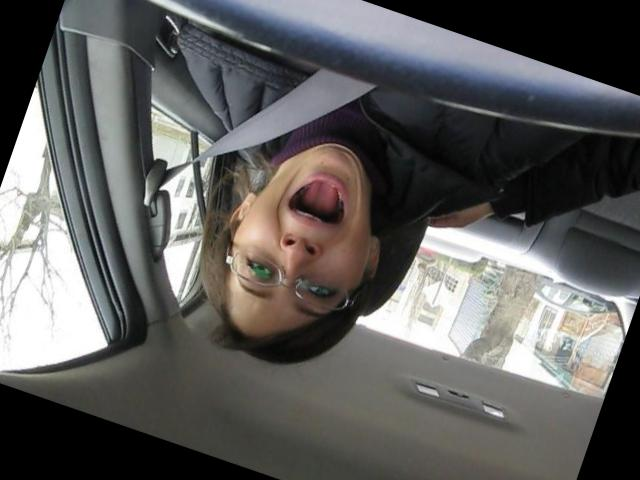eye_open: (297, 276, 342, 312), (236, 252, 281, 287)
face: (213, 125, 397, 342)
mouth_open: (276, 162, 363, 242)
